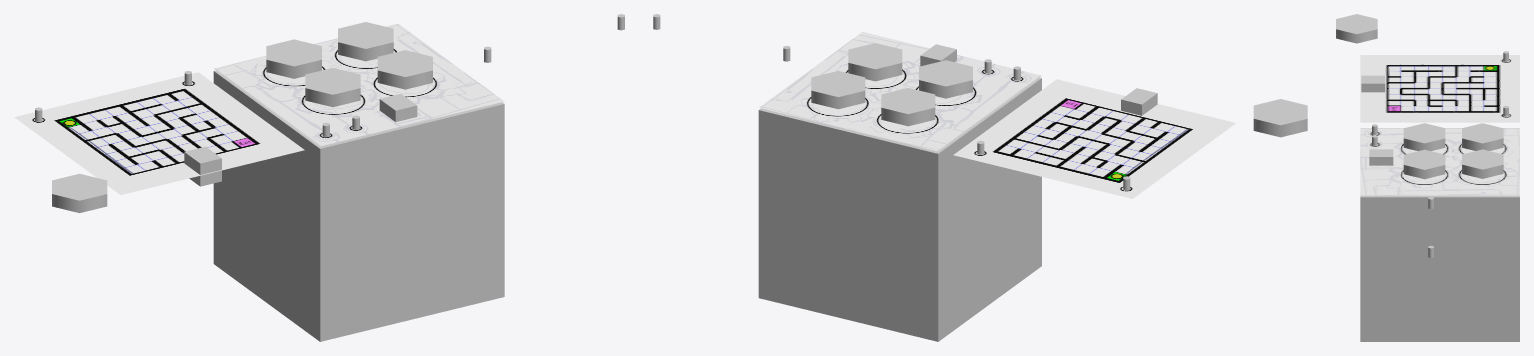
File: maze puzzle box.fbx
3 renders of one model, left to right at view 1: azimuth 30°, elevation 25°; view 2: azimuth 150°, elevation 25°; view 3: azimuth 270°, elevation 25°, orthographic. The views are drawn at different scales.
Visible parts, largest first — view 1: Box001, Plane002, Plane001, Cylinder049, Cylinder048, Cylinder051, Cylinder050, Cylinder047, Box050, Box039; view 2: Box001, Plane002, Plane001, Cylinder050, Cylinder047, Cylinder051, Cylinder049, Cylinder048, Box050, Box039; view 3: Box001, Plane002, Plane001, Cylinder049, Cylinder051, Cylinder050, Cylinder048, Cylinder047, Box050, Box039.
Boxes of the visible parts, x1,y1,x2,y2 form: Box001: (213, 70, 504, 341); Plane002: (14, 72, 304, 194); Plane001: (214, 23, 504, 146); Cylinder049: (377, 50, 432, 89); Cylinder048: (305, 68, 360, 107); Cylinder051: (52, 173, 107, 213); Cylinder050: (338, 22, 393, 61); Cylinder047: (266, 39, 321, 78); Box050: (184, 146, 221, 186); Box039: (379, 94, 417, 121); Box001: (758, 77, 1041, 341); Plane002: (953, 79, 1235, 198); Plane001: (759, 32, 1041, 151); Cylinder050: (811, 71, 865, 109); Cylinder047: (881, 88, 935, 126); Cylinder051: (1253, 99, 1307, 137); Cylinder049: (848, 43, 902, 81); Cylinder048: (919, 60, 972, 98); Box050: (1121, 88, 1157, 115); Box039: (920, 44, 956, 66); Box001: (1360, 195, 1519, 341); Plane002: (1360, 55, 1519, 122); Plane001: (1360, 128, 1519, 195); Cylinder049: (1403, 149, 1445, 179); Cylinder051: (1336, 14, 1377, 43); Cylinder050: (1462, 149, 1503, 178); Cylinder048: (1403, 123, 1445, 150); Cylinder047: (1462, 123, 1503, 150); Box050: (1361, 75, 1385, 92); Box039: (1369, 149, 1393, 165).
Bounding box in the file's own units: 399 × 132 × 136.
2 materials, 2 textured.
